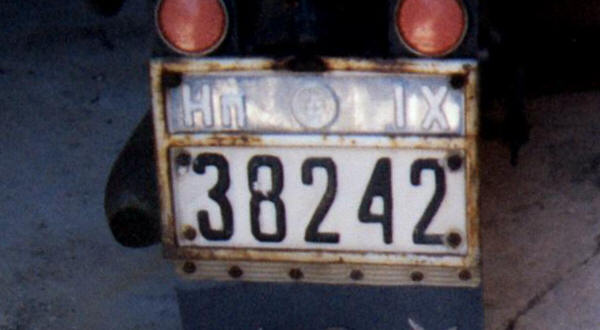license_plate: (149, 56, 482, 267)
